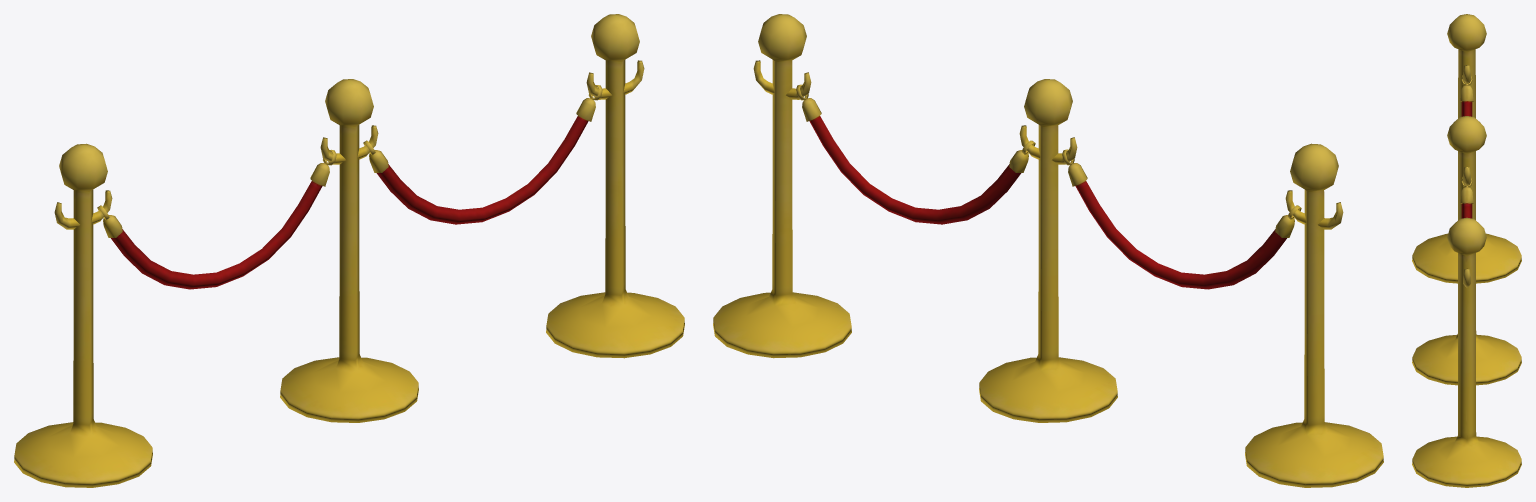
3 views of the same model, side by side, from view 1: azimuth 30°, elevation 25°; view 2: azimuth 150°, elevation 25°; view 3: azimuth 270°, elevation 25° (orthographic). The views are drawn at different scales.
Size of the model in its own units: 19.65 by 8.99 by 3.65.
1 material, 1 textured.
